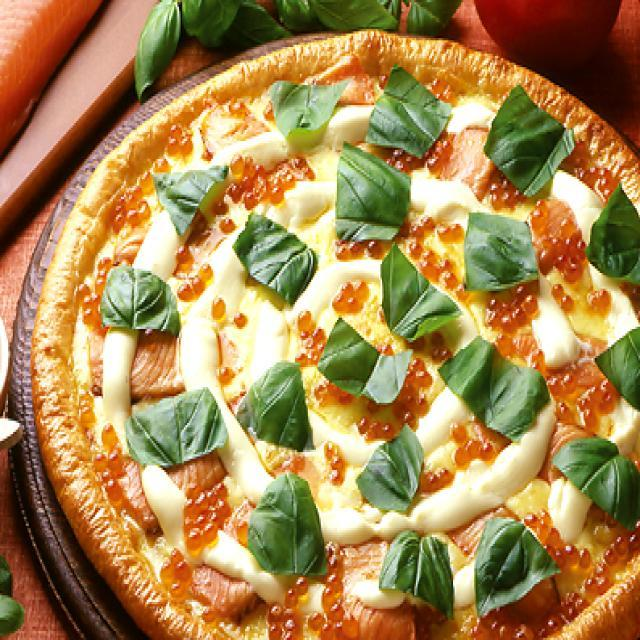Pizza: (13, 12, 640, 640)
